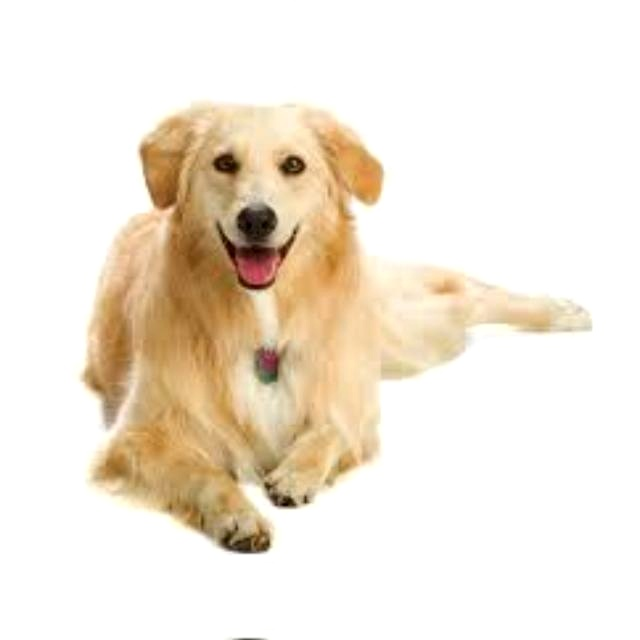dog: (124, 86, 406, 307)
